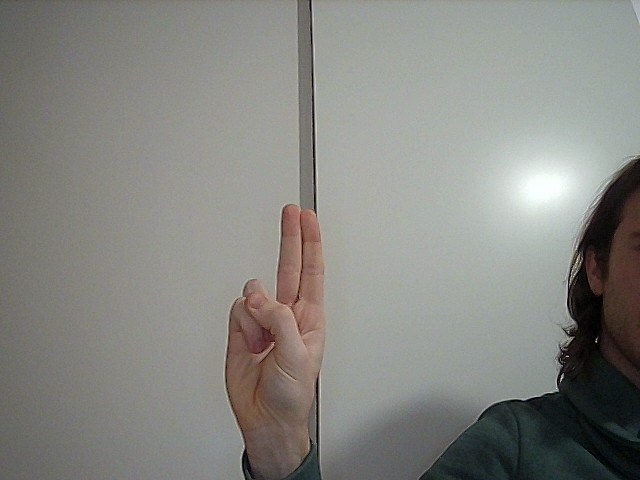u: (223, 198, 328, 425)
